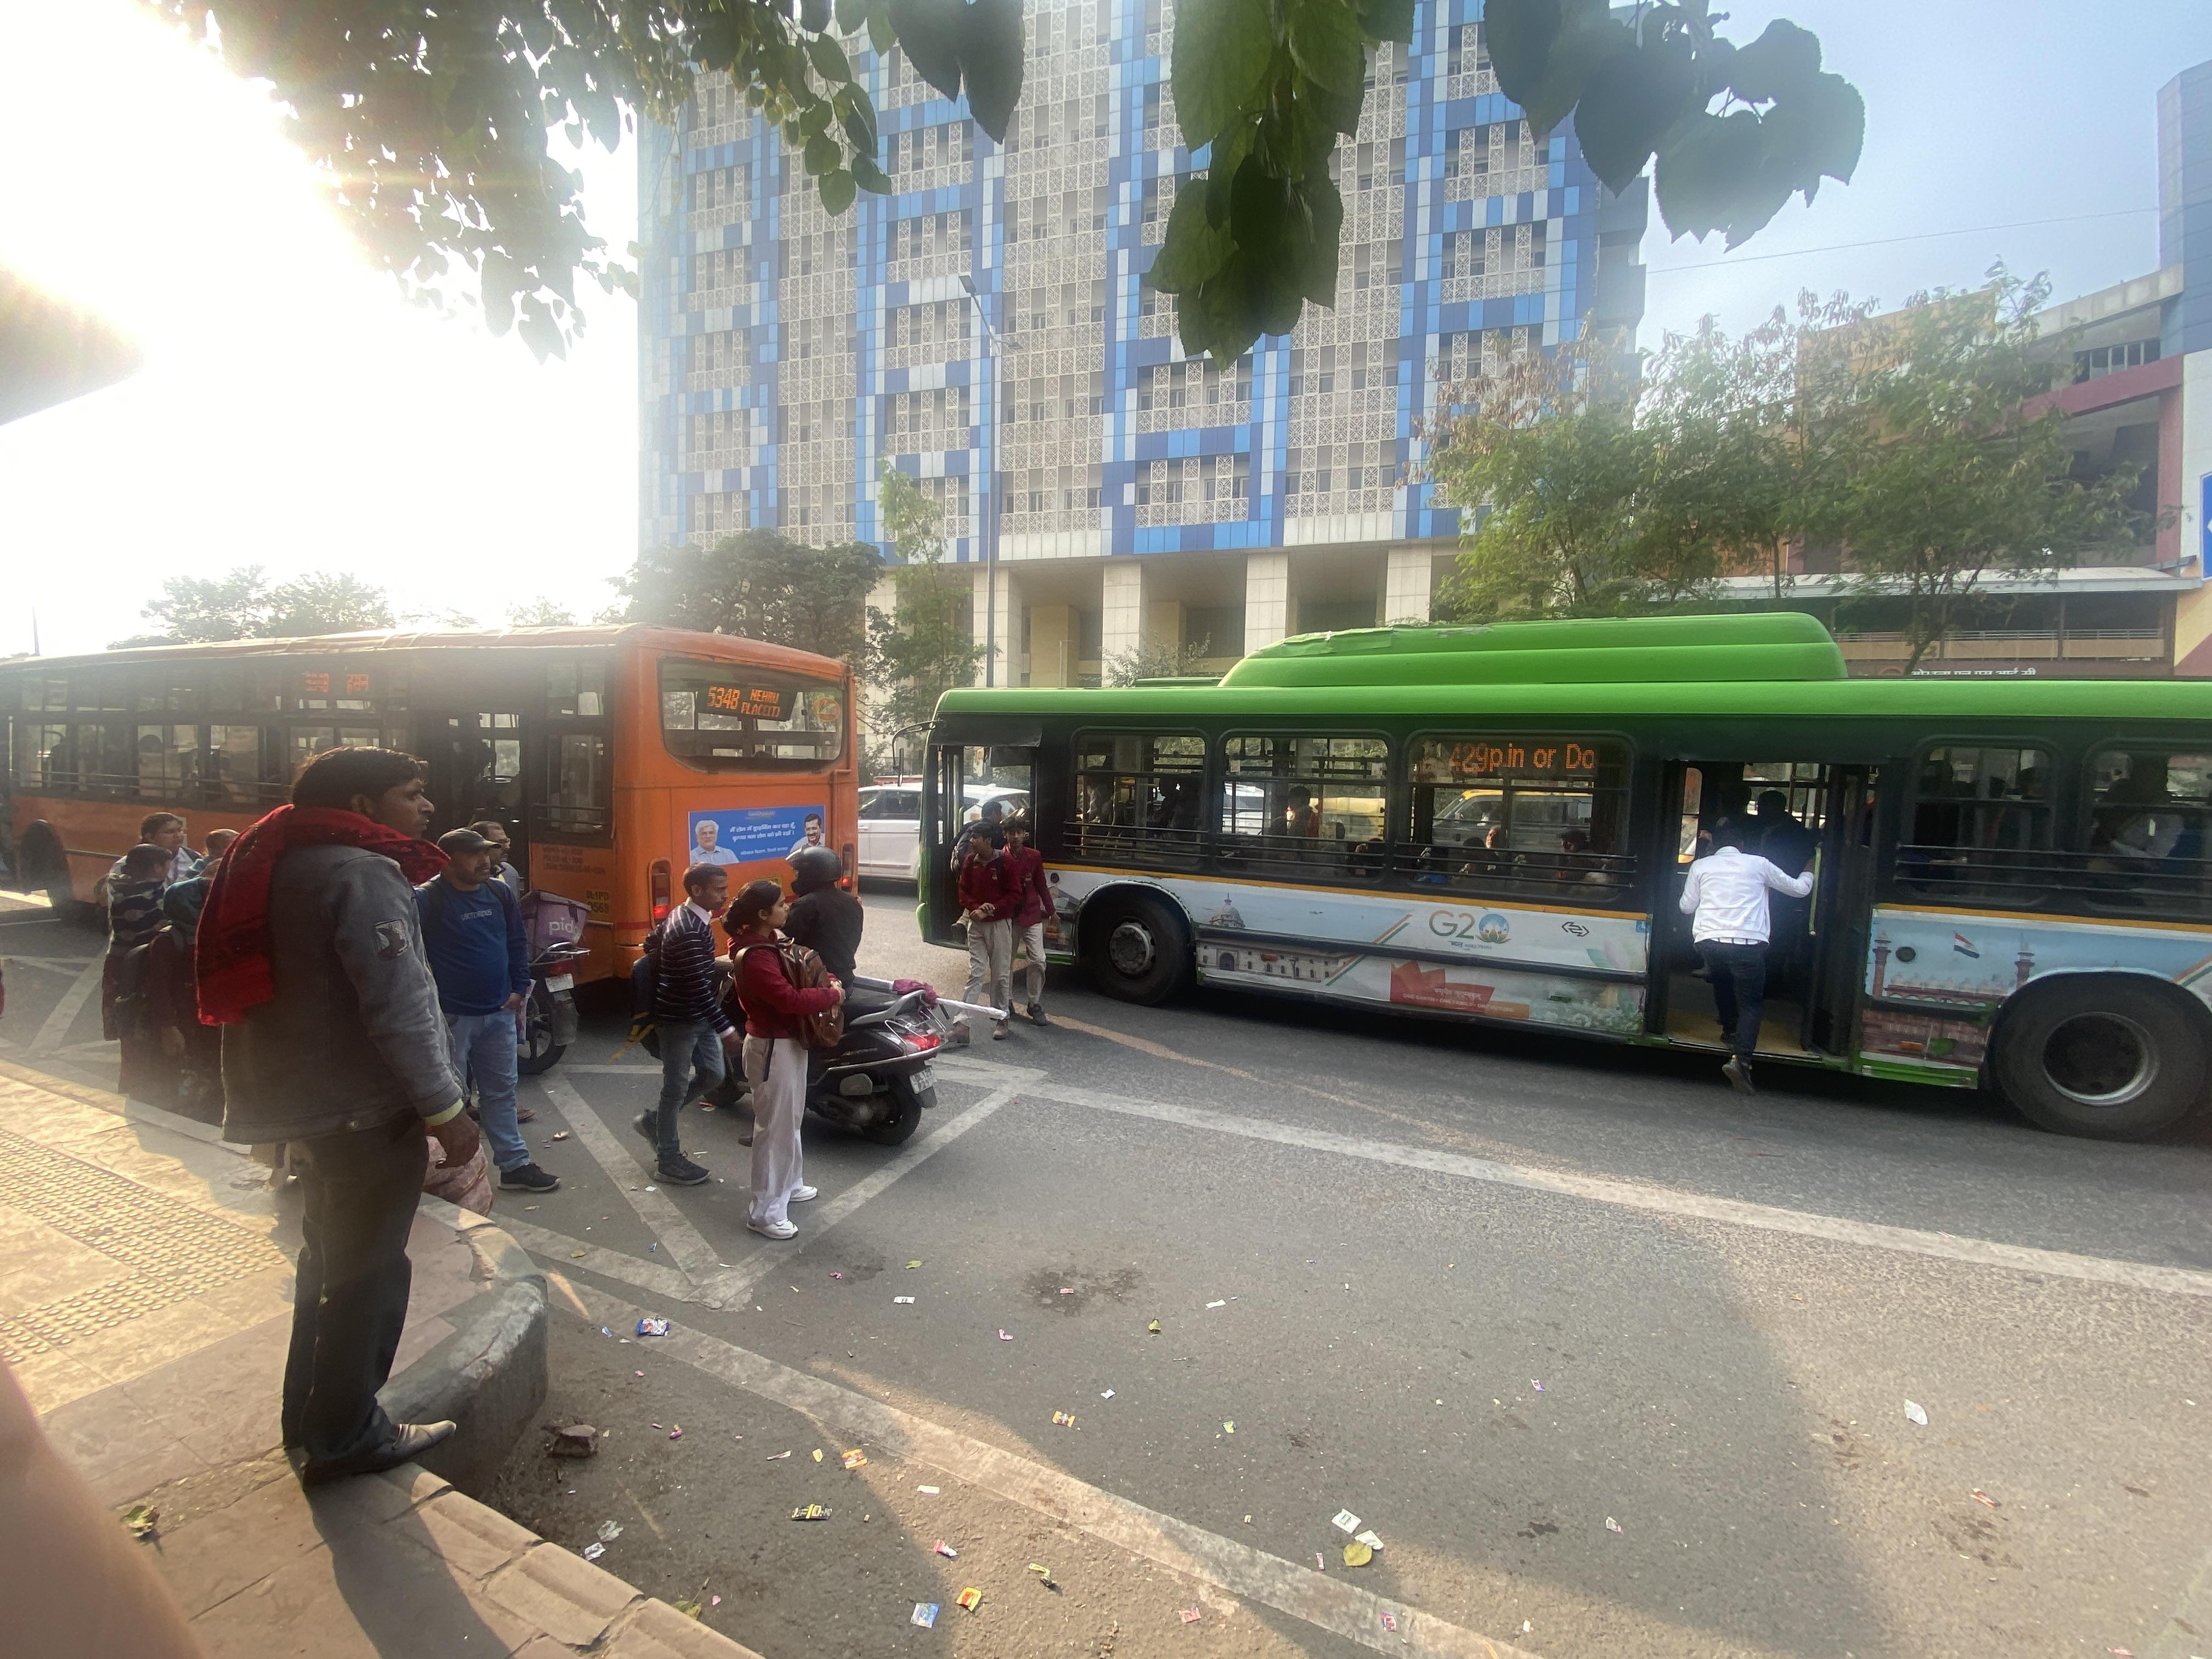Bus: (916, 615, 2212, 1091), (0, 620, 855, 1004)
Display Board: (1421, 713, 1613, 823), (674, 653, 829, 735)
